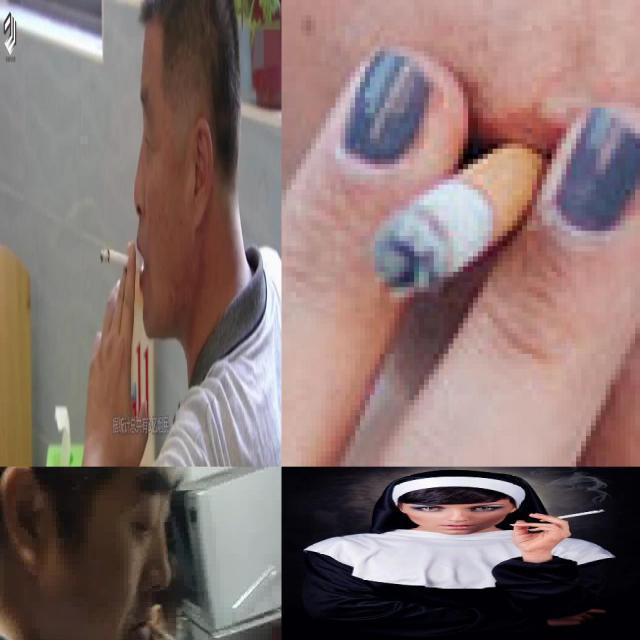rokok: (372, 140, 548, 296), (144, 616, 198, 640), (100, 249, 136, 271), (539, 510, 605, 522)
